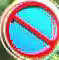No waiting: (3, 3, 58, 55)
